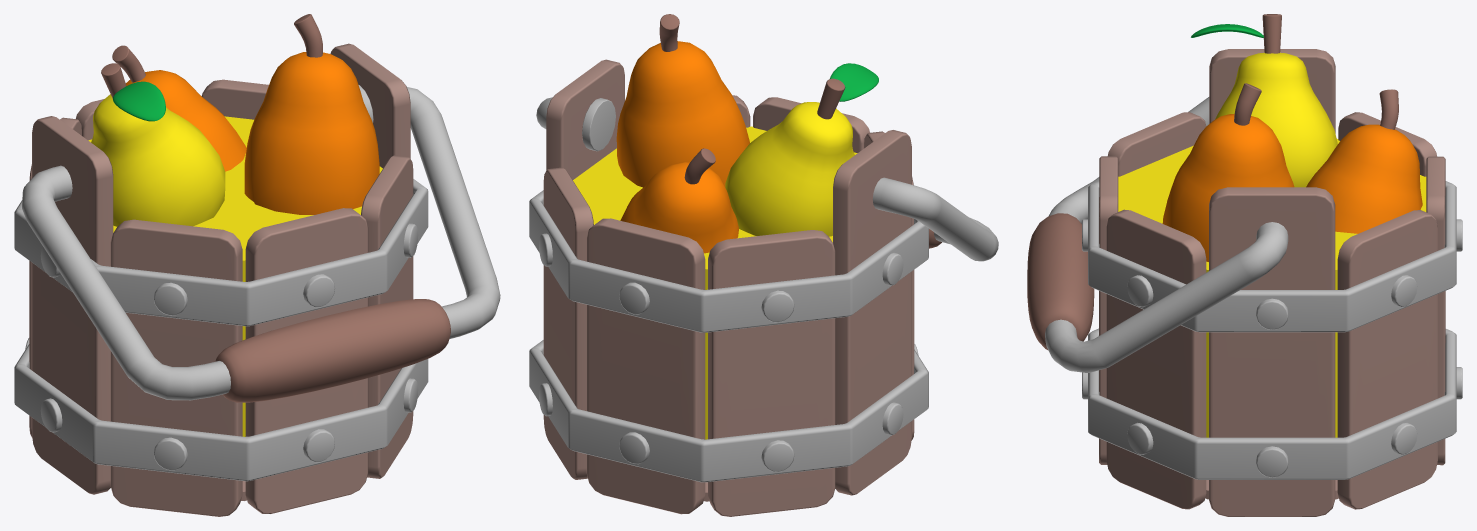
Rendered from Farm_13_Bucket_with_Pear_1.glb.
3 views of the same model, side by side, from view 1: azimuth 30°, elevation 25°; view 2: azimuth 150°, elevation 25°; view 3: azimuth 270°, elevation 25° (orthographic). The views are drawn at different scales.
Visible parts, largest first — view 1: Farm_13_Bucket_with_Pear_1; view 2: Farm_13_Bucket_with_Pear_1; view 3: Farm_13_Bucket_with_Pear_1.
Boxes of the visible parts, <box> form: Farm_13_Bucket_with_Pear_1: <box>14,14,500,516</box>; Farm_13_Bucket_with_Pear_1: <box>529,14,998,516</box>; Farm_13_Bucket_with_Pear_1: <box>1027,14,1462,516</box>.
Size of the model in its own units: 0.675 by 0.6468 by 0.6463.
1 material, 1 textured.
